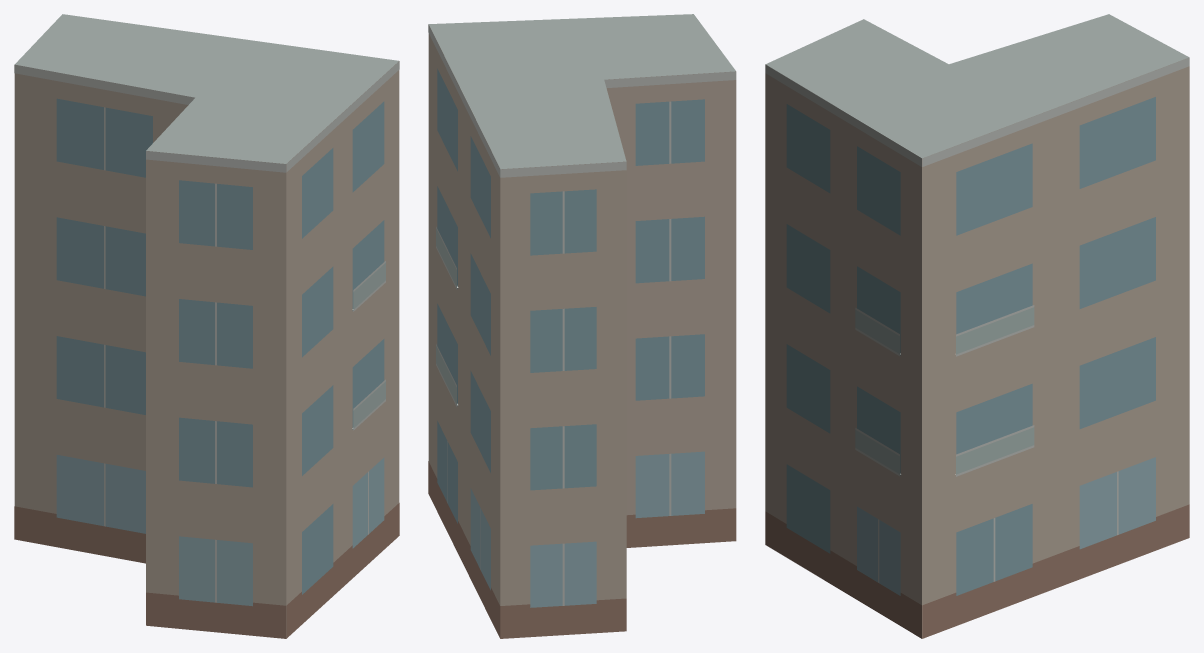
The model's file is survey-upis-32470938.glb.
3 views of the same model, side by side, from view 1: azimuth 30°, elevation 25°; view 2: azimuth 150°, elevation 25°; view 3: azimuth 270°, elevation 25° (orthographic). The views are drawn at different scales.
Parts seen in each view (by area): view 1: survey-upis-32470938.tmp; view 2: survey-upis-32470938.tmp; view 3: survey-upis-32470938.tmp.
Boxes of the visible parts, left/top/right/bottom form: survey-upis-32470938.tmp: left=14, top=14, right=399, bottom=638; survey-upis-32470938.tmp: left=428, top=14, right=736, bottom=638; survey-upis-32470938.tmp: left=765, top=14, right=1189, bottom=638.
Bounding box in the file's own units: 8.58 × 13.3 × 10.65.
